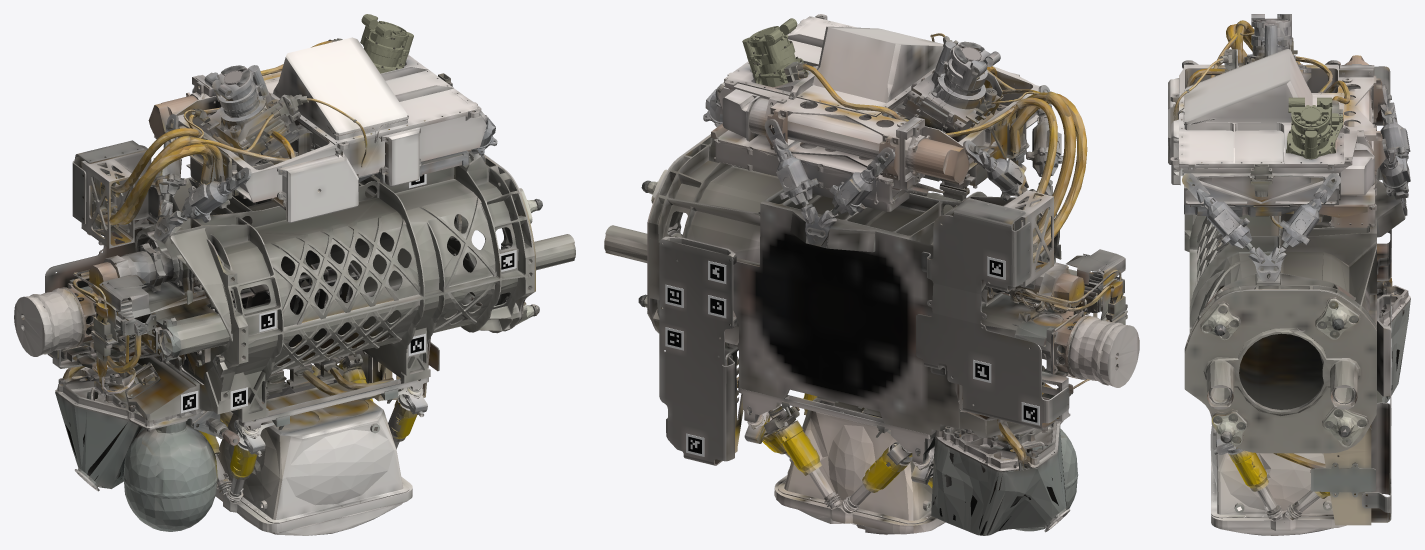
File: turret.obj
3 views of the same model, side by side, from view 1: azimuth 30°, elevation 25°; view 2: azimuth 150°, elevation 25°; view 3: azimuth 270°, elevation 25° (orthographic). The views are drawn at different scales.
Bounding box in the file's own units: 0.7097 × 0.6647 × 0.308.
Materials: 1 (1 with a texture image).
